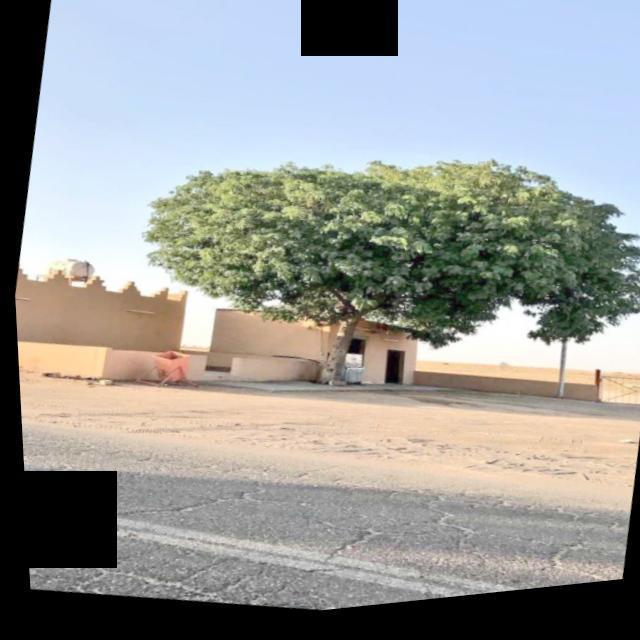tree: (115, 104, 640, 457)
